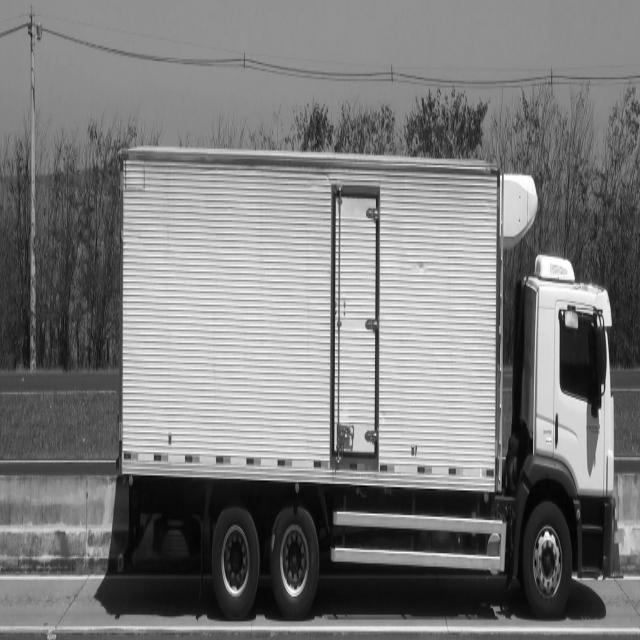Pole: (29, 6, 36, 373)
Truck: (119, 146, 614, 619)
